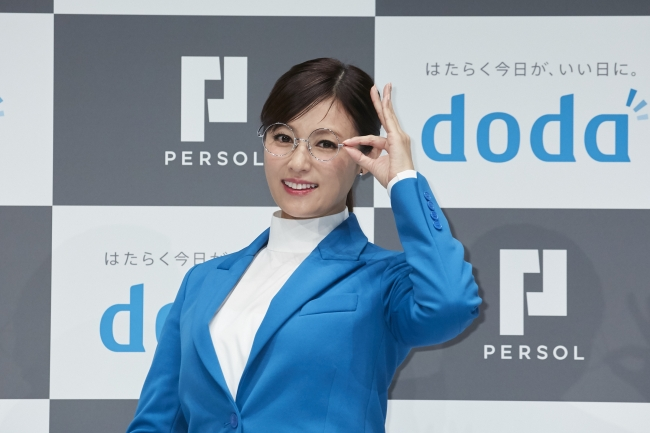face: (263, 95, 360, 219)
hand: (342, 83, 415, 189)
